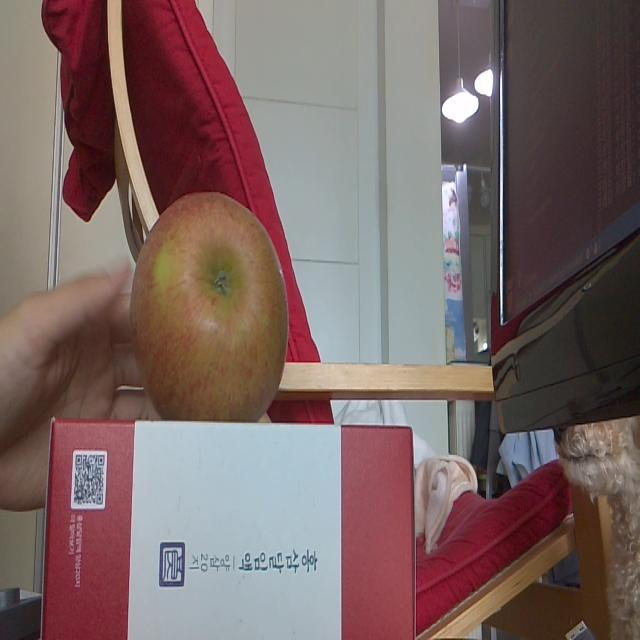apple: (129, 188, 289, 420)
